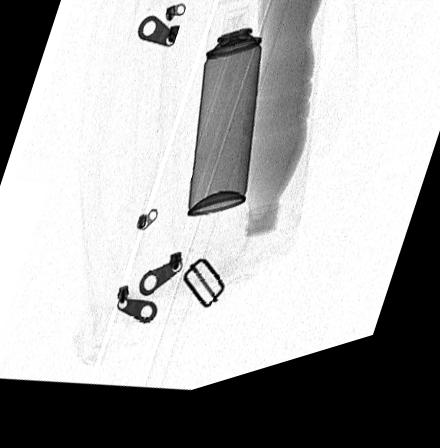Sprayer: (187, 5, 264, 226)
